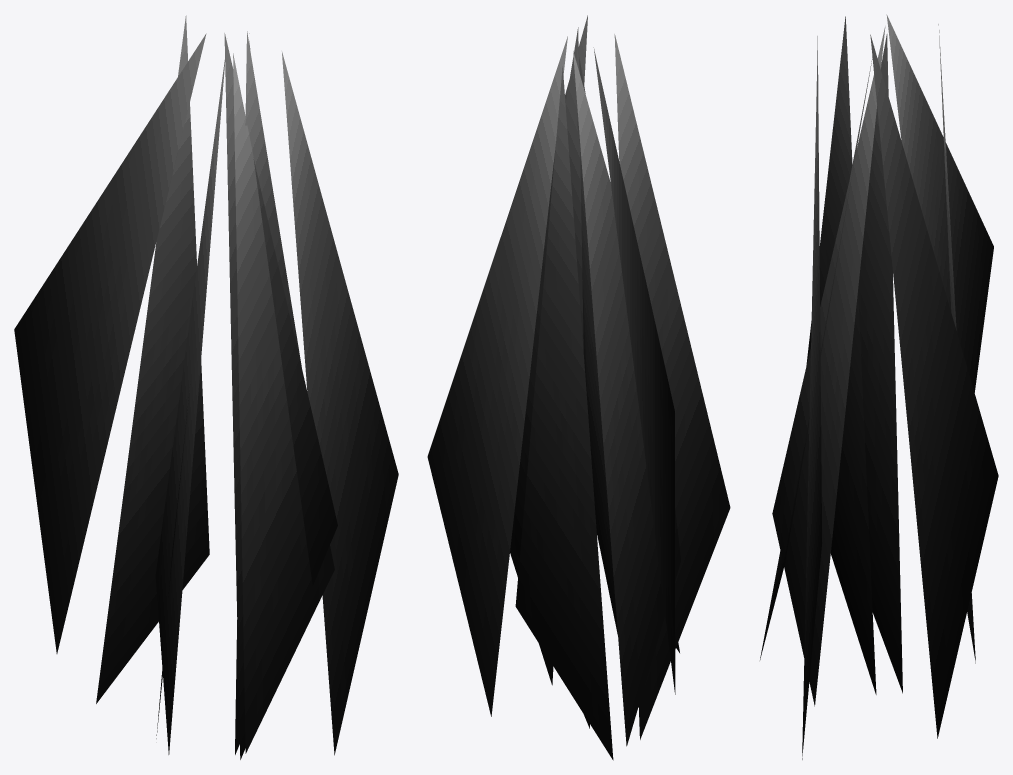
Rendered from yaoxiangguagn02.FBX.
The picture shows the model from 3 angles, left to right: view 1: azimuth 30°, elevation 25°; view 2: azimuth 150°, elevation 25°; view 3: azimuth 270°, elevation 25°; orthographic projection. The views are drawn at different scales.
Visible parts, largest first — view 1: Plane001; view 2: Plane001; view 3: Plane001.
Boxes of the visible parts, <box> form: Plane001: <box>14,15,398,759</box>; Plane001: <box>427,15,730,760</box>; Plane001: <box>760,14,998,759</box>.
Bounding box in the file's own units: 252 × 585 × 177.
1 material, 1 textured.
